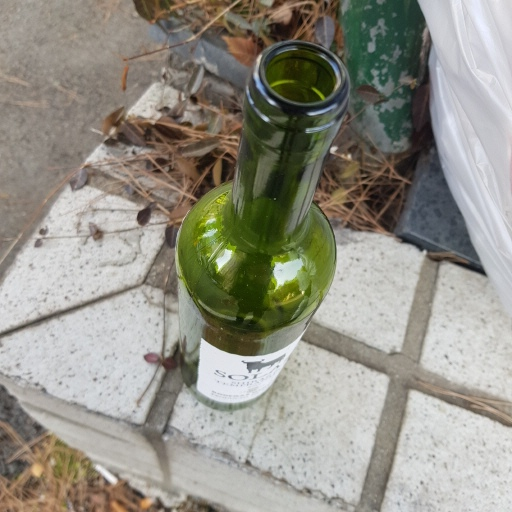Glass_2: (169, 41, 355, 416)
